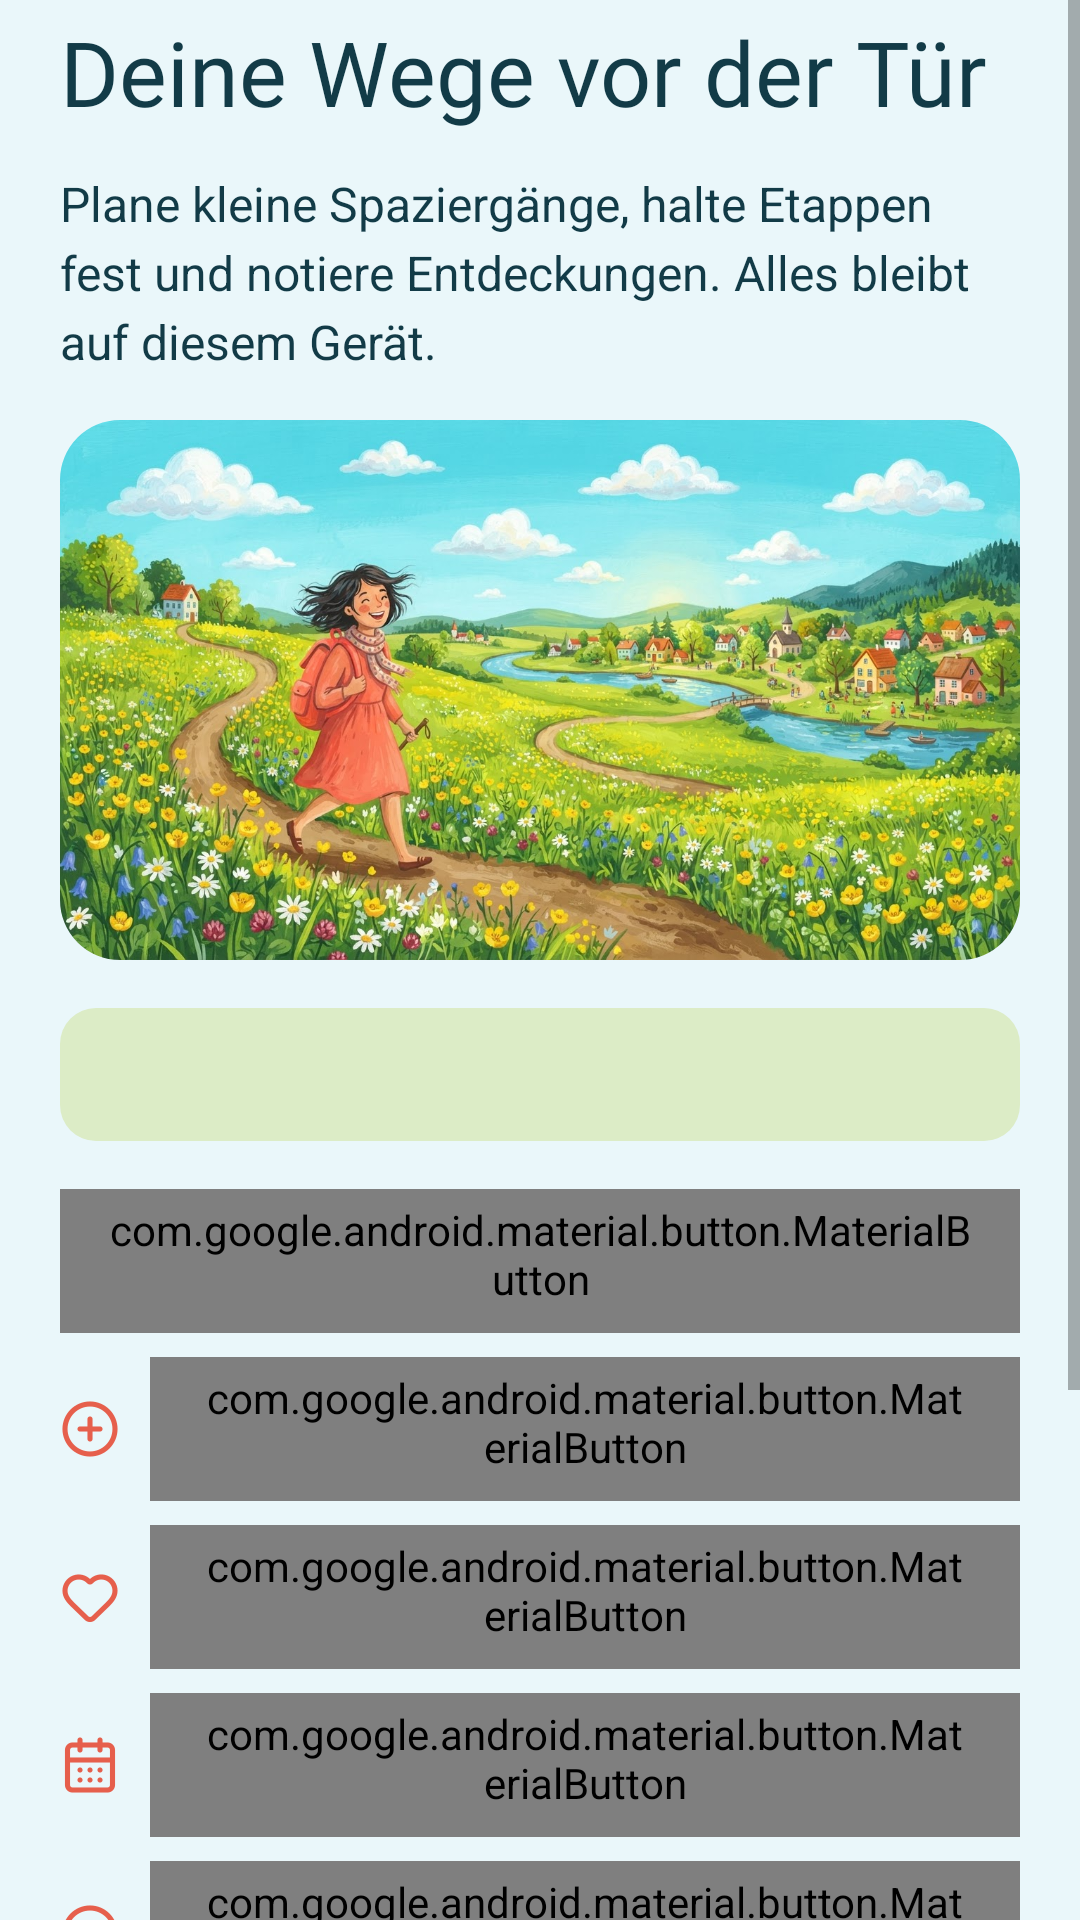

Point at icon controls on the screen. Image size 1080x1920, points as (x=x, y=y).
figma calendar: (x=90, y=1765)
figma circle plus: (x=90, y=1429)
figma heart: (x=90, y=1598)
